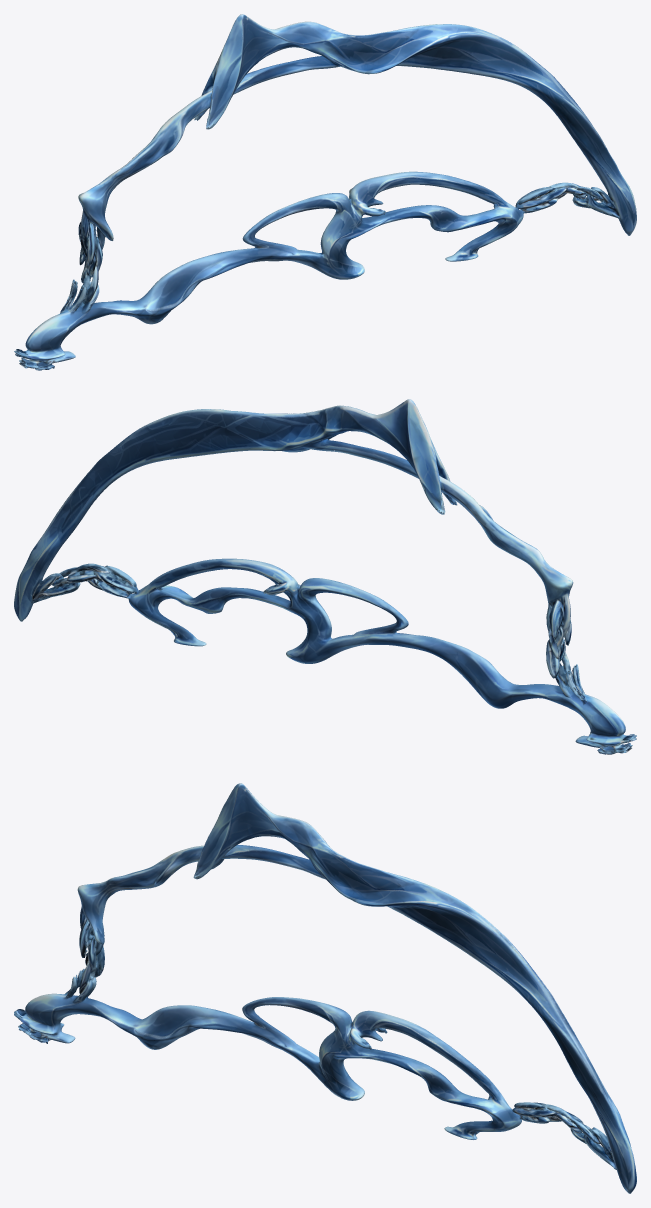
Rendered from accumulate.glb.
3 views of the same model, one above another, from view 1: azimuth 30°, elevation 25°; view 2: azimuth 150°, elevation 25°; view 3: azimuth 330°, elevation 25° (orthographic).
Parts seen in each view (by area): view 1: tripo_node_bc398151-f750-4d5d-b8b3-8458f12cfcaa; view 2: tripo_node_bc398151-f750-4d5d-b8b3-8458f12cfcaa; view 3: tripo_node_bc398151-f750-4d5d-b8b3-8458f12cfcaa.
Boxes of the visible parts, x1=… form: tripo_node_bc398151-f750-4d5d-b8b3-8458f12cfcaa: x1=14, y1=14, x2=636, y2=370; tripo_node_bc398151-f750-4d5d-b8b3-8458f12cfcaa: x1=14, y1=399, x2=636, y2=754; tripo_node_bc398151-f750-4d5d-b8b3-8458f12cfcaa: x1=14, y1=783, x2=636, y2=1193.
Size of the model in its own units: 0.9826 by 0.478 by 0.0575.
1 material, 1 textured.
